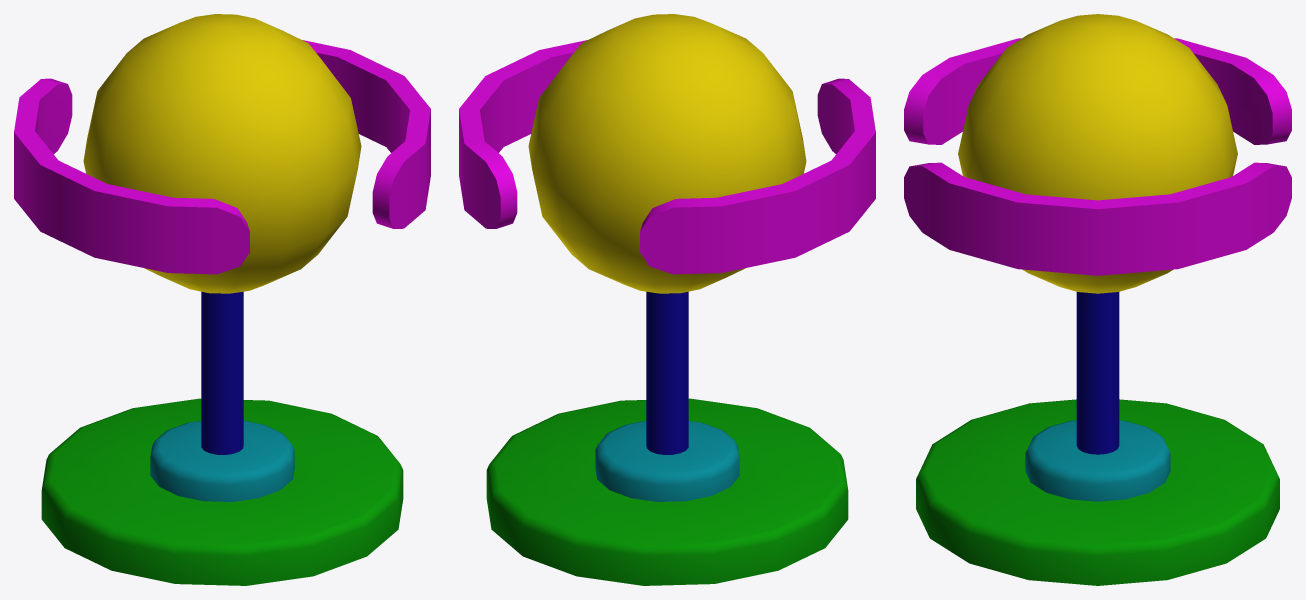
Rendered from pickup_test.fbx.
3 views of the same model, side by side, from view 1: azimuth 30°, elevation 25°; view 2: azimuth 150°, elevation 25°; view 3: azimuth 270°, elevation 25° (orthographic).
Visible parts, largest first — view 1: Navigation; view 2: Navigation; view 3: Navigation.
Part boxes in pixels (x1=…): Navigation: x1=14, y1=14, x2=430, y2=585; Navigation: x1=459, y1=14, x2=875, y2=585; Navigation: x1=904, y1=14, x2=1291, y2=585.
Size of the model in its own units: 300 by 380 by 277.
